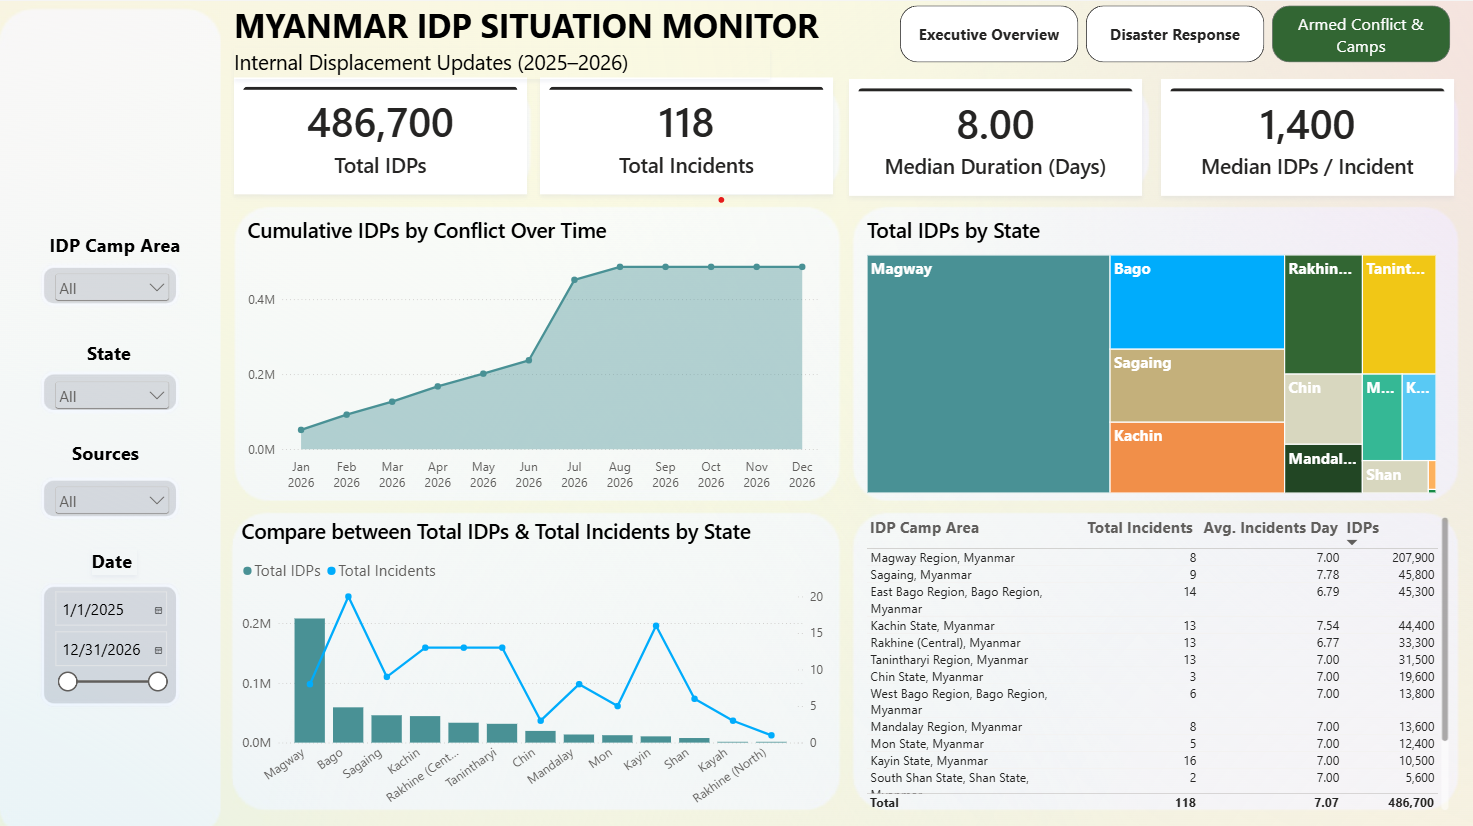

The page's visual inventory and layout, read from the dashboard file:
{"tool":"powerbi","page":{"name":"Armed Conflict & Camps","canvas":[1920,1080],"ordinal":2},"visuals":[{"type":"cardVisual","fields":{"Data":["measure_table.Total Displacements"]},"box":[304.4,99.9,381.6,152.2],"z":0},{"type":"cardVisual","fields":{"Data":["measure_table.Average Displacements per Incident"]},"box":[1510.4,102.2,381.6,152.2],"z":1000},{"type":"cardVisual","fields":{"Data":["measure_table.Total Incidents"]},"box":[701.8,99.9,381.6,152.2],"z":2000},{"type":"cardVisual","fields":{"Data":["measure_table.Average Incidents Date"]},"box":[1103.9,102.2,381.6,152.2],"z":3000},{"type":"areaChart","title":"Cumulative IDPs by Conflict Over Time","fields":{"Category":["dim_date.Year","dim_date.Month Year","dim_date.Date.Variation.Date Hierarchy.Day"],"Y":["measure_table.Cumulative Conflict Displacements"]},"box":[322.5,279.4,749.5,361.1],"z":4000},{"type":"tableEx","fields":{"Values":["dim_events.locations_name","measure_table.Total Incidents","measure_table.Average Incidents Day","measure_table.Total Displacements"]},"box":[1126.6,672.3,758.6,381.6],"z":5000},{"type":"lineClusteredColumnComboChart","title":"Compare between Total IDPs & Total Incidents by State","fields":{"Category":["dim_events.state"],"Y":["measure_table.Total Displacements"],"Y2":["measure_table.Total Incidents"]},"box":[313.4,672.3,758.6,381.6],"z":6000},{"type":"treemap","title":"Total IDPs by State","fields":{"Group":["dim_events.state"],"Values":["measure_table.Total Displacements"]},"box":[1128.8,279.4,740.4,361.1],"z":7000},{"type":"slicer","fields":{"Values":["dim_date.Date"]},"box":[63.6,763.2,156.7,145.4],"z":7001},{"type":"textbox","box":[118.1,713.2,59.1,34.1],"z":7002},{"type":"slicer","fields":{"Values":["dim_events.subtype"]},"box":[65.9,349.8,159,47.7],"z":7003},{"type":"textbox","box":[113.6,440.6,59.1,34.1],"z":7004},{"type":"slicer","fields":{"Values":["dim_events.state"]},"box":[65.9,490.6,159,50],"z":7005},{"type":"textbox","box":[63.6,299.8,177.2,31.8],"z":7006},{"type":"slicer","fields":{"Values":["dim_events.sources"]},"box":[66.2,625.7,159,47.7],"z":7007},{"type":"textbox","box":[93.1,572.4,106.8,34.1],"z":7008},{"type":"textbox","box":[304.4,61.3,697.3,40.9],"z":7009},{"type":"textbox","box":[304.4,2.3,776.8,59.1],"z":7010},{"type":"pageNavigator","box":[1172,6.8,717.7,75],"z":7011}]}

Visuals, with their boxes in screenshot pixels (x1, y1, x2, y2), scaled from the page's 1920x1080 canvas onto the 1473x826 screenshot:
cardVisual - measure_table.Total Displacements: [234,76,526,193]
cardVisual - measure_table.Average Displacements per Incident: [1159,78,1452,195]
cardVisual - measure_table.Total Incidents: [538,76,831,193]
cardVisual - measure_table.Average Incidents Date: [847,78,1140,195]
"Cumulative IDPs by Conflict Over Time" areaChart: [247,214,822,490]
tableEx - dim_events.locations_name x measure_table.Total Incidents: [864,514,1446,806]
"Compare between Total IDPs & Total Incidents by State" lineClusteredColumnComboChart: [240,514,822,806]
"Total IDPs by State" treemap: [866,214,1434,490]
slicer - dim_date.Date: [49,584,169,695]
textbox: [91,545,136,572]
slicer - dim_events.subtype: [51,268,173,304]
textbox: [87,337,132,363]
slicer - dim_events.state: [51,375,173,413]
textbox: [49,229,185,254]
slicer - dim_events.sources: [51,479,173,515]
textbox: [71,438,153,464]
textbox: [234,47,768,78]
textbox: [234,2,829,47]
pageNavigator: [899,5,1450,63]
